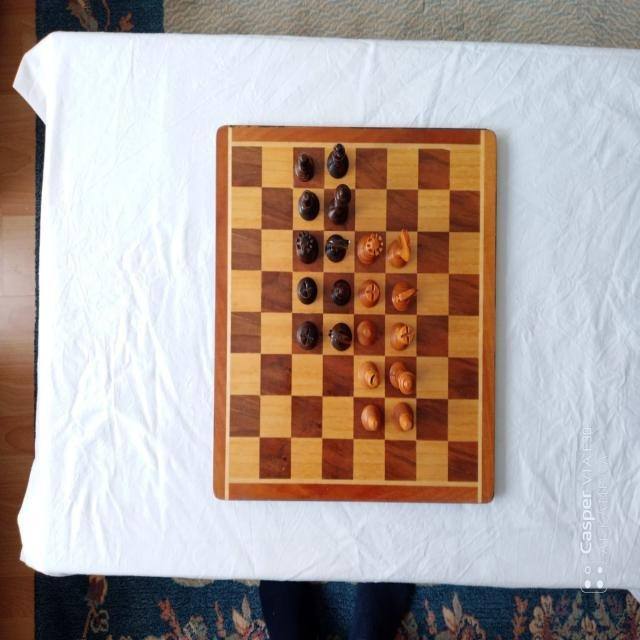black-bishop: (326, 142, 349, 178), (297, 189, 320, 221)
black-king: (328, 184, 352, 224)
black-knight: (325, 233, 350, 262), (328, 322, 352, 352)
black-pawn: (295, 151, 316, 181), (332, 277, 352, 306)
black-queen: (295, 229, 320, 264)
black-rook: (296, 320, 319, 349), (296, 275, 318, 304)
white-bishop: (390, 401, 415, 433), (358, 360, 381, 389)
white-king: (388, 361, 416, 395)
white-knight: (387, 228, 411, 268), (391, 280, 418, 311)
white-pawn: (361, 404, 382, 432), (356, 320, 376, 346)
white-queen: (356, 231, 384, 264)
white-rook: (389, 321, 414, 351), (359, 279, 381, 309)
